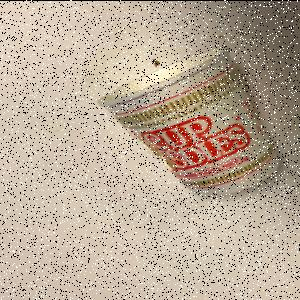Cup: (97, 48, 281, 198)
